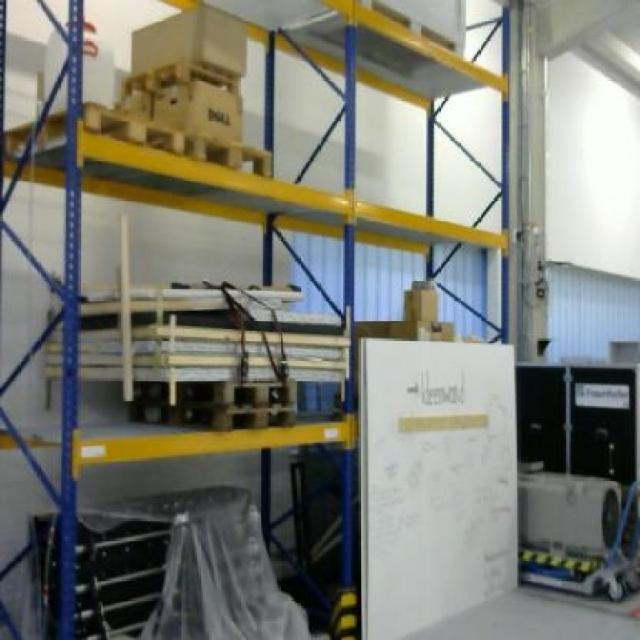box: (130, 4, 248, 78), (150, 80, 244, 146), (402, 286, 440, 320)
